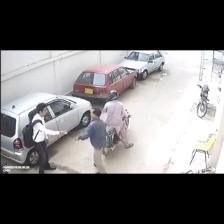person: (32, 103, 67, 173), (76, 108, 107, 173), (104, 91, 133, 148)
